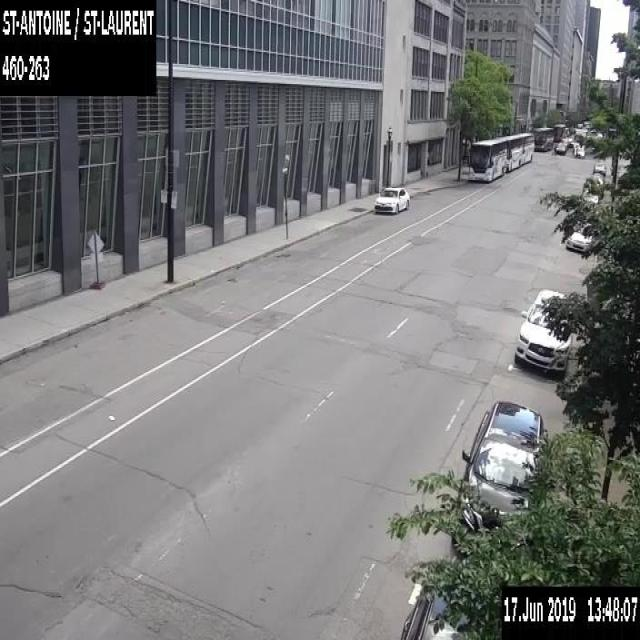bus: (468, 137, 507, 181), (496, 134, 522, 172), (511, 131, 534, 165)
construction: (84, 227, 104, 261)
vehicle: (452, 396, 550, 557), (513, 286, 574, 382), (399, 581, 477, 639), (373, 184, 409, 216), (564, 222, 593, 255), (532, 126, 553, 150), (582, 178, 599, 202), (590, 171, 604, 189), (592, 160, 606, 173), (573, 144, 585, 156), (554, 141, 565, 153), (560, 137, 567, 148)
